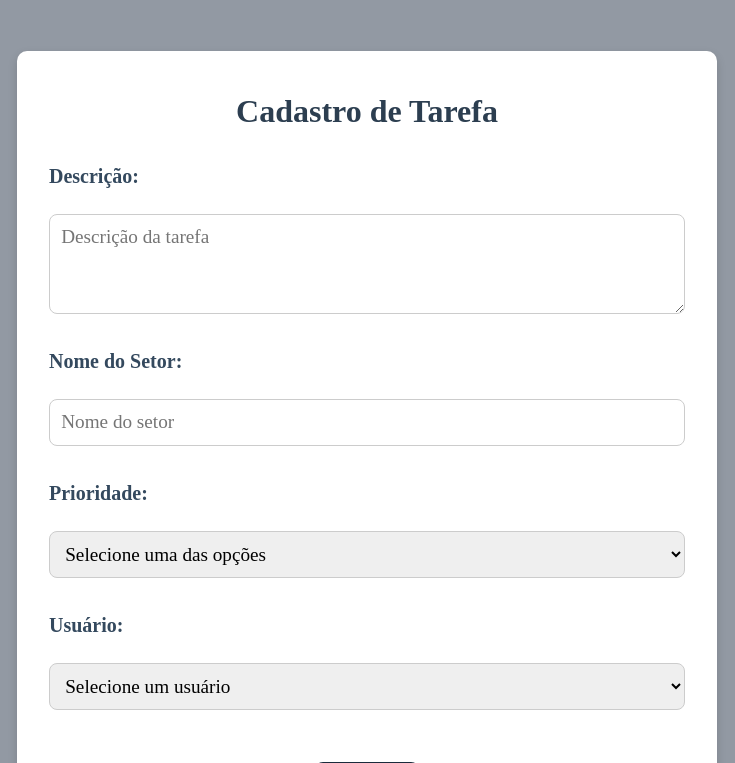
Test case: CadTarefa › deve exibir erro quando o campo 'Descrição' estiver vazio
Type "Setor válido" into the field labelled "Nome do Setor:" at coordinates (367, 422), box [49,399,685,446]
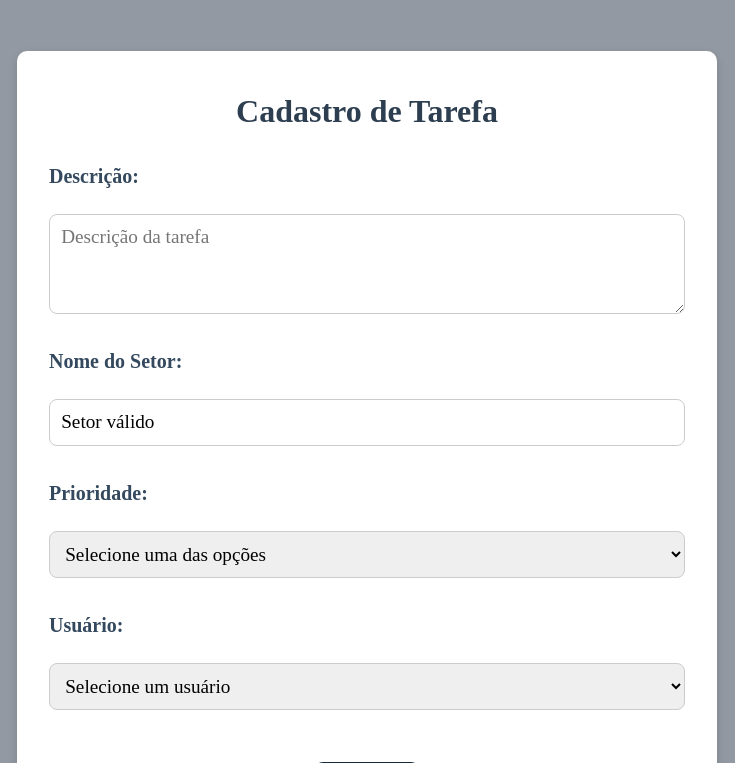
Select "baixa" in the dropdown labelled "Prioridade:" at coordinates (367, 554), box [49,530,685,578]
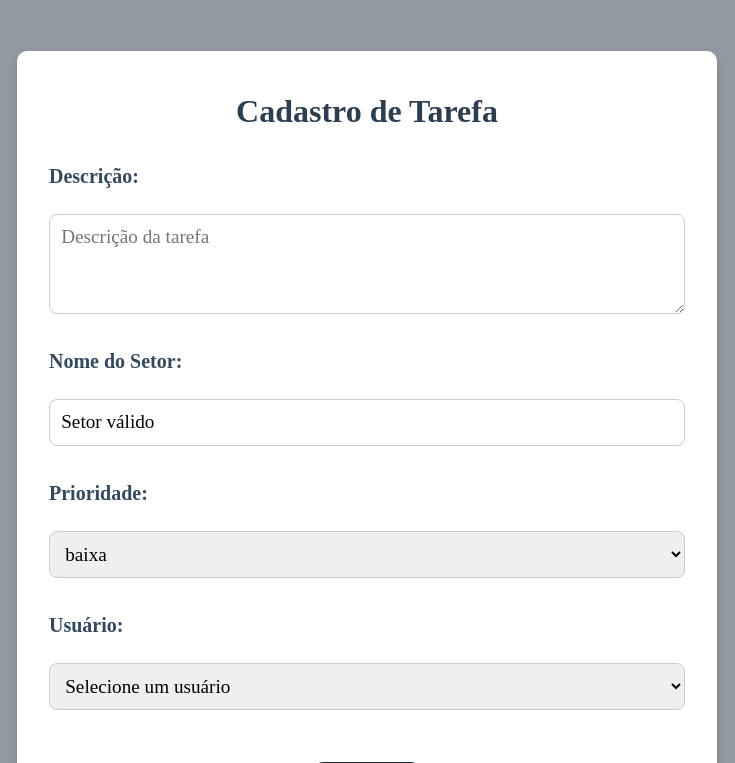
Select "Usuário Teste" in the dropdown labelled "Usuário:" at coordinates (367, 687), box [49,663,685,710]
(page scrolled)
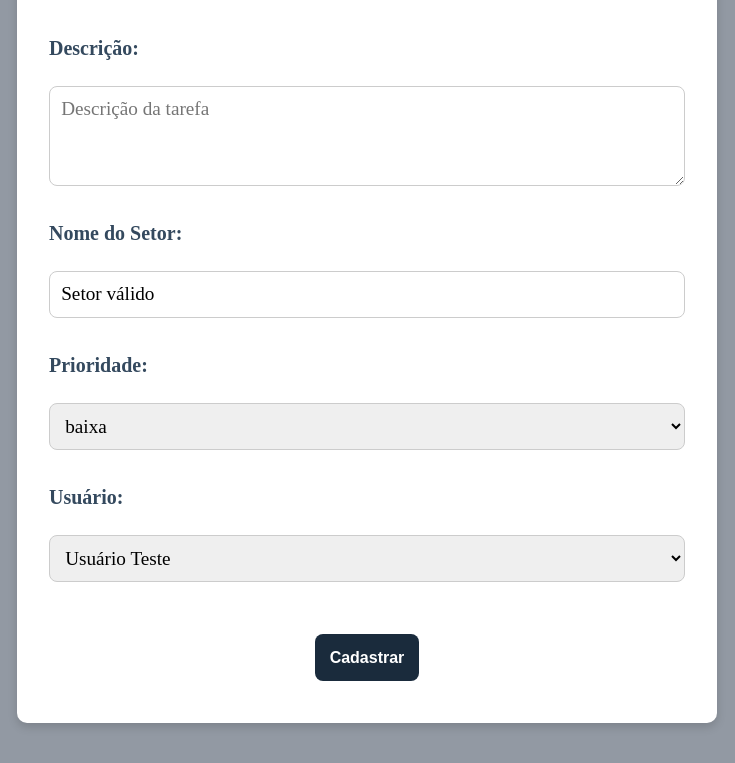
Click the button "Cadastrar" at coordinates (367, 658), box [315,634,419,681]
(page scrolled)
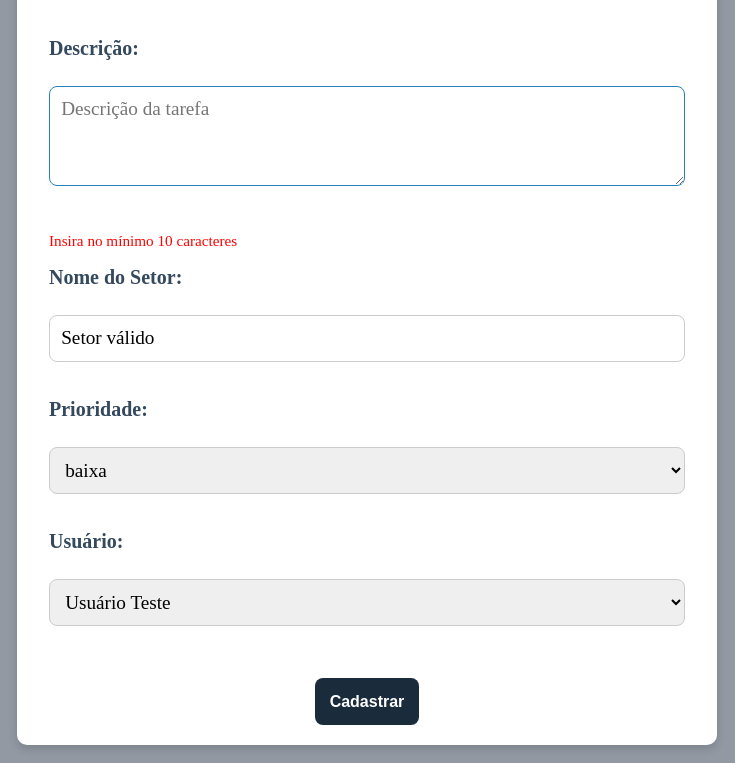
Now the text "Insira no mínimo 10 caracteres" is shown, box [49,232,237,249]
